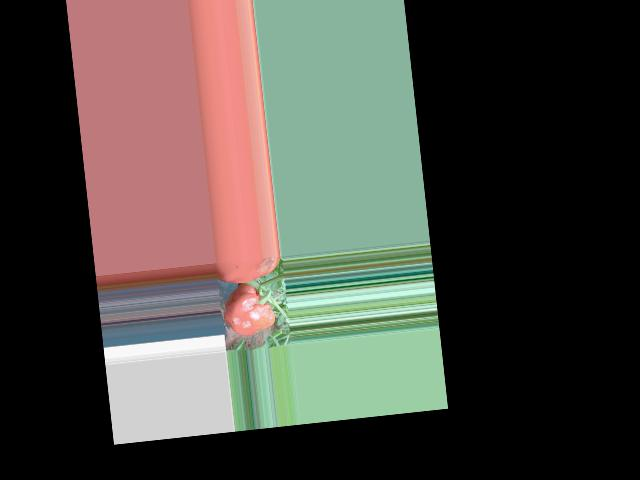bell_pepper: (218, 281, 281, 335)
